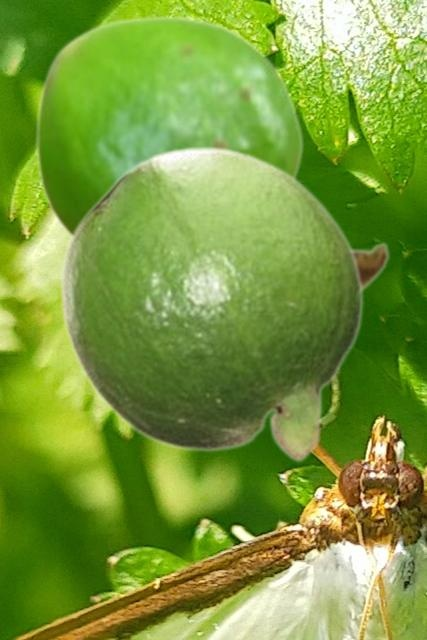guava: (34, 14, 390, 292), (58, 144, 363, 463)
